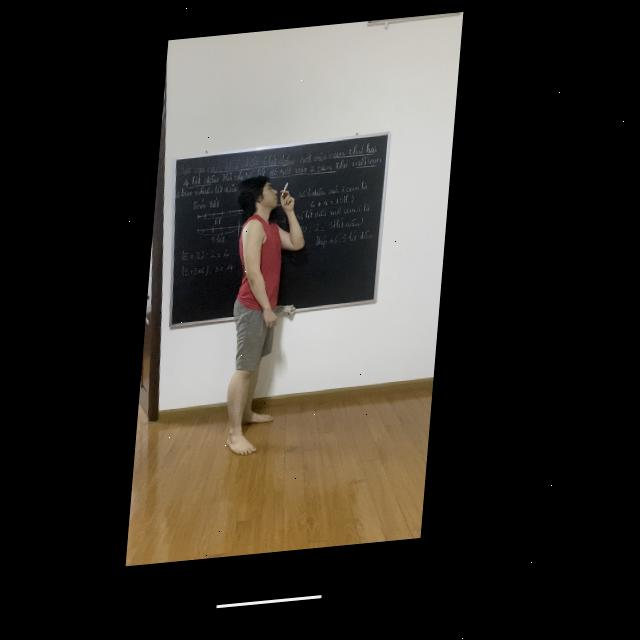cigarette: (285, 189, 291, 201)
